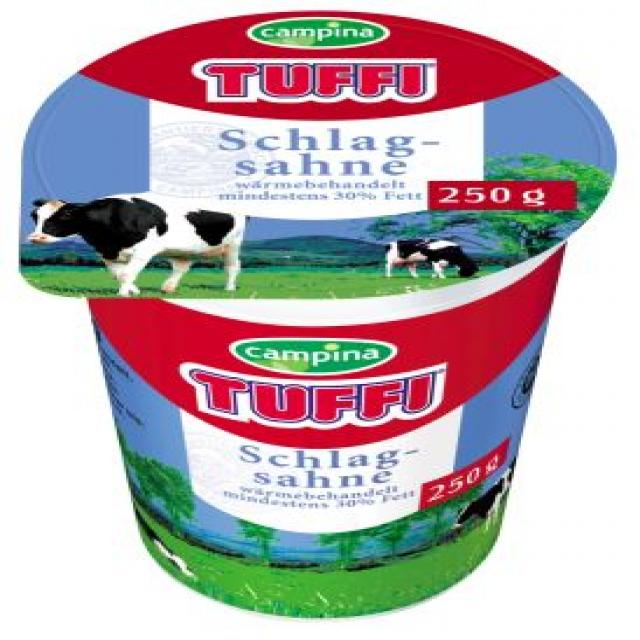cream: (21, 10, 617, 620)
